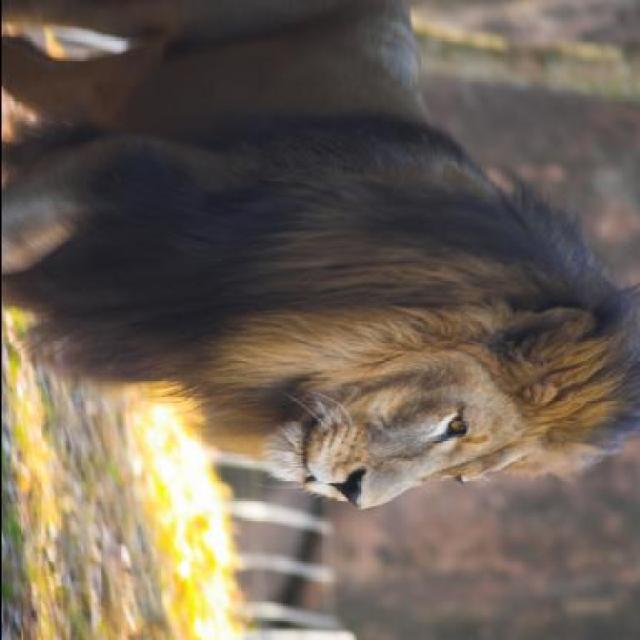Lion: (0, 1, 637, 508)
